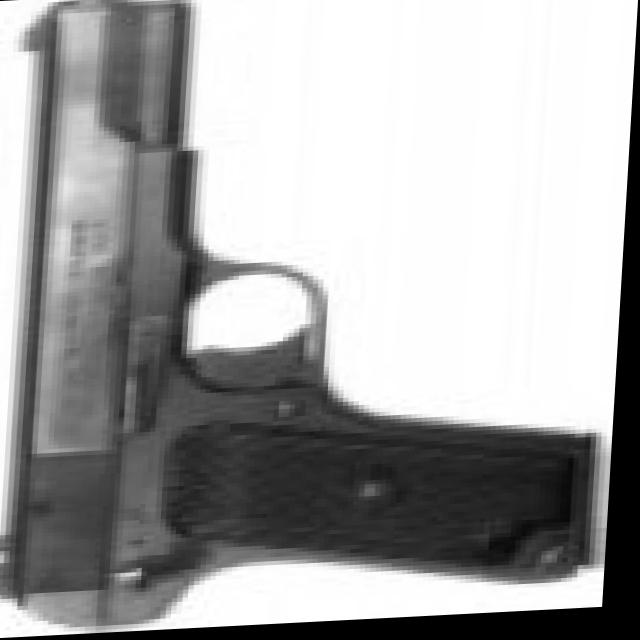handgun: (0, 0, 608, 619)
